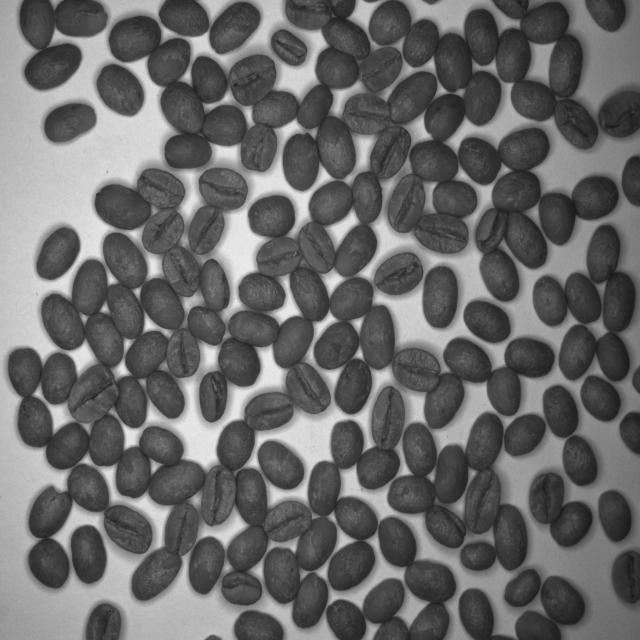bad: (20, 486, 78, 542), (312, 315, 363, 378), (368, 120, 416, 186), (372, 244, 425, 300), (475, 198, 514, 263), (197, 366, 232, 429)
good: (21, 40, 88, 102), (201, 0, 267, 61), (221, 48, 282, 112), (92, 62, 150, 129), (97, 500, 156, 564), (594, 259, 640, 340), (37, 94, 97, 155), (474, 237, 526, 307), (418, 259, 464, 338), (40, 287, 91, 357), (504, 68, 558, 133), (284, 356, 334, 426), (490, 496, 534, 575), (579, 215, 626, 288), (537, 569, 593, 630), (496, 116, 551, 178), (442, 331, 496, 394), (67, 368, 123, 428), (422, 368, 468, 441), (91, 180, 152, 235), (124, 545, 185, 600), (463, 464, 506, 542), (98, 226, 148, 293), (108, 14, 166, 71), (196, 160, 252, 219), (552, 88, 601, 154), (294, 219, 346, 281), (502, 210, 552, 274), (534, 184, 581, 252), (547, 34, 591, 106), (31, 220, 82, 282), (186, 530, 228, 605), (527, 458, 569, 532), (464, 407, 509, 476), (386, 467, 442, 522), (260, 536, 302, 609), (558, 425, 604, 491), (412, 208, 469, 261), (295, 513, 340, 580), (376, 508, 421, 575), (22, 532, 72, 592), (140, 273, 190, 333), (368, 383, 410, 454), (224, 304, 286, 352), (235, 267, 290, 321), (568, 168, 622, 223), (492, 166, 544, 223), (453, 576, 499, 640), (552, 496, 600, 557), (68, 526, 113, 591), (317, 118, 360, 186), (487, 357, 530, 425), (460, 5, 502, 74), (200, 460, 238, 536), (44, 416, 92, 476), (433, 28, 475, 96), (327, 539, 377, 596), (596, 481, 636, 552), (397, 418, 442, 481), (384, 170, 426, 237), (463, 64, 505, 131), (554, 318, 596, 385), (236, 463, 274, 537), (306, 177, 358, 231), (408, 136, 463, 187), (564, 264, 607, 329), (284, 265, 333, 322), (150, 457, 208, 505), (268, 314, 316, 372), (402, 557, 460, 605), (540, 379, 584, 442), (504, 400, 550, 460), (198, 101, 252, 152), (240, 386, 294, 437), (358, 572, 409, 626), (392, 340, 442, 395), (492, 22, 533, 88), (137, 202, 188, 255), (255, 436, 306, 489), (250, 82, 304, 132), (64, 462, 114, 516), (159, 80, 207, 136), (345, 87, 393, 143), (291, 569, 333, 633), (465, 292, 513, 348), (153, 0, 214, 44), (36, 349, 80, 410), (360, 43, 407, 100), (235, 120, 281, 178), (214, 335, 265, 387), (504, 332, 556, 383), (136, 162, 186, 215), (148, 33, 194, 90), (225, 520, 271, 577), (52, 0, 110, 45), (246, 196, 298, 246), (389, 71, 438, 124), (253, 234, 307, 282), (124, 331, 171, 386), (432, 173, 480, 226), (158, 245, 205, 299), (317, 45, 364, 99), (186, 204, 229, 263), (112, 444, 154, 504), (321, 14, 372, 63), (328, 275, 377, 326), (334, 359, 377, 417), (331, 223, 377, 277), (260, 499, 314, 545), (282, 129, 320, 194), (14, 0, 58, 56), (531, 269, 570, 332), (12, 394, 55, 451), (162, 499, 202, 560), (456, 134, 502, 187), (216, 419, 260, 474), (188, 50, 229, 109), (106, 282, 146, 342), (331, 496, 381, 544), (424, 506, 470, 558), (434, 439, 469, 507), (158, 128, 214, 170), (214, 570, 270, 612), (356, 446, 405, 494), (137, 424, 188, 470), (298, 80, 338, 138), (304, 457, 342, 518), (265, 26, 312, 75), (366, 0, 415, 47), (579, 374, 625, 424), (7, 341, 45, 401), (185, 302, 232, 350), (200, 252, 235, 316), (323, 592, 369, 640), (328, 415, 366, 473), (426, 90, 466, 145), (231, 603, 290, 640), (72, 256, 109, 314), (85, 311, 124, 366), (404, 15, 442, 70), (166, 331, 205, 383), (500, 567, 543, 613), (361, 304, 385, 378)
